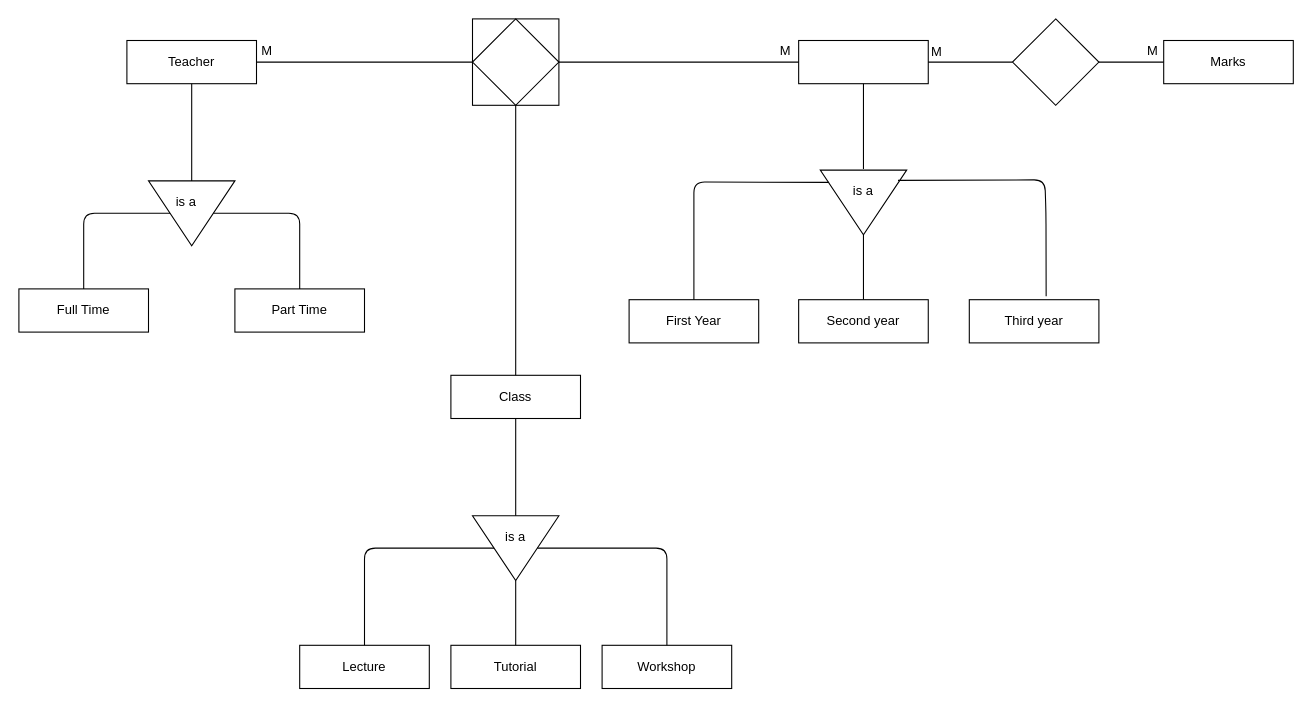
Some shapes in this 1312 by 707 pixel diagram are drawn without their labels. The centre of each missing label's shape, as x and y in pixels:
Gets: the point at 1055,61
Student: the point at 863,61
Teaches: the point at 515,61
